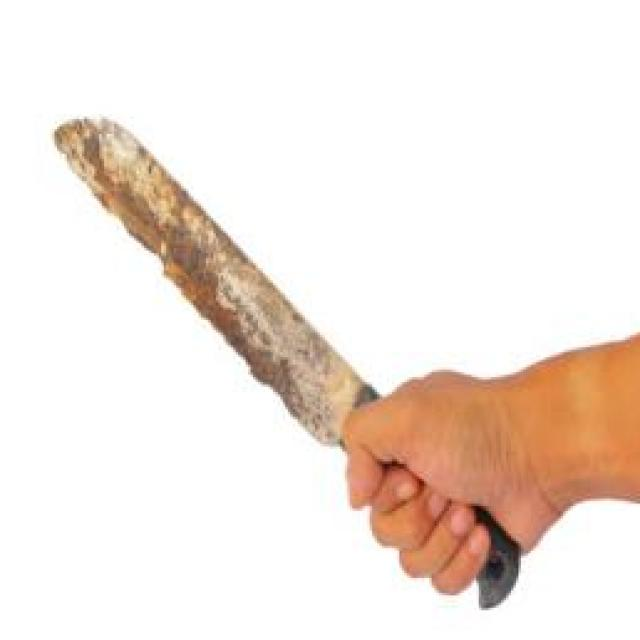knife: (51, 114, 523, 612)
